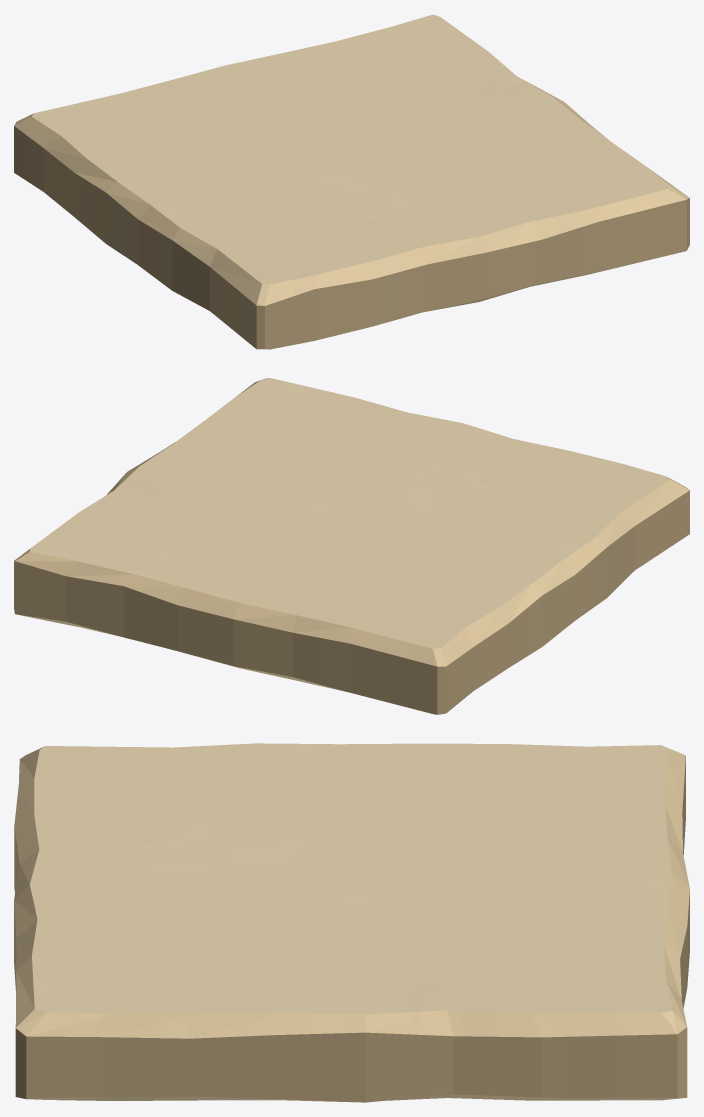
File: tile_a_intact.glb
The picture shows the model from 3 angles, top to bottom: view 1: azimuth 30°, elevation 25°; view 2: azimuth 150°, elevation 25°; view 3: azimuth 270°, elevation 25°; orthographic projection. The views are drawn at different scales.
Parts seen in each view (by area): view 1: tile_a_intact; view 2: tile_a_intact; view 3: tile_a_intact.
Boxes of the visible parts, x1,y1,x2,y2 form: tile_a_intact: [14, 14, 689, 349]; tile_a_intact: [14, 378, 689, 714]; tile_a_intact: [14, 743, 689, 1102].
Size of the model in its own units: 2.8 by 0.4 by 2.8.
Materials: 3 (3 with a texture image).
